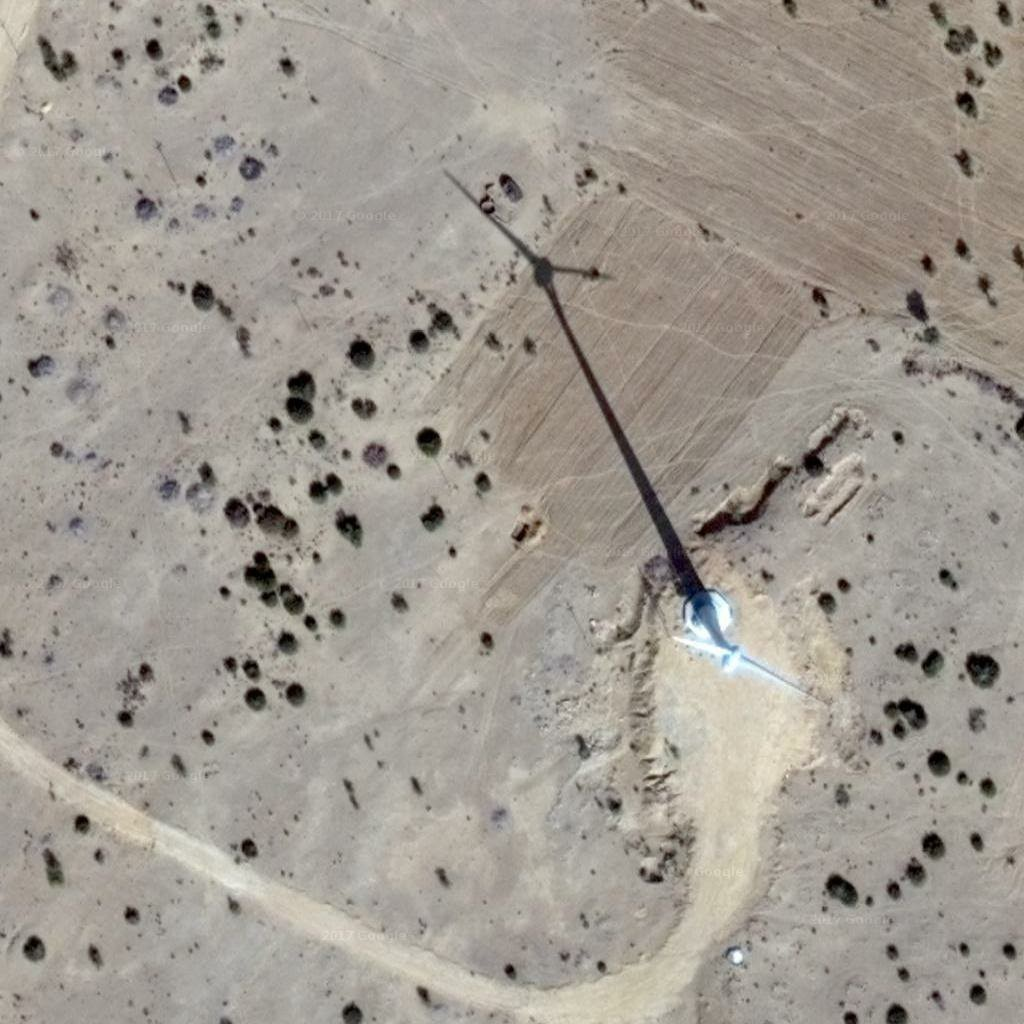Windmill: (439, 165, 711, 591)
